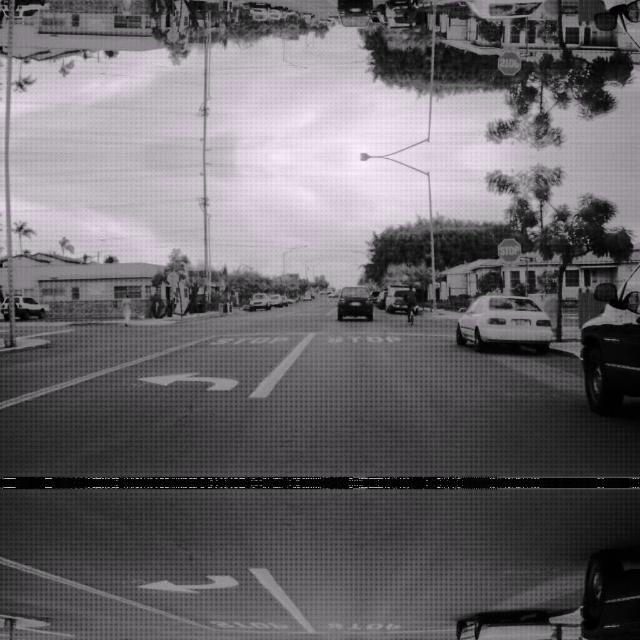stop: (496, 236, 522, 262), (496, 50, 522, 76)
